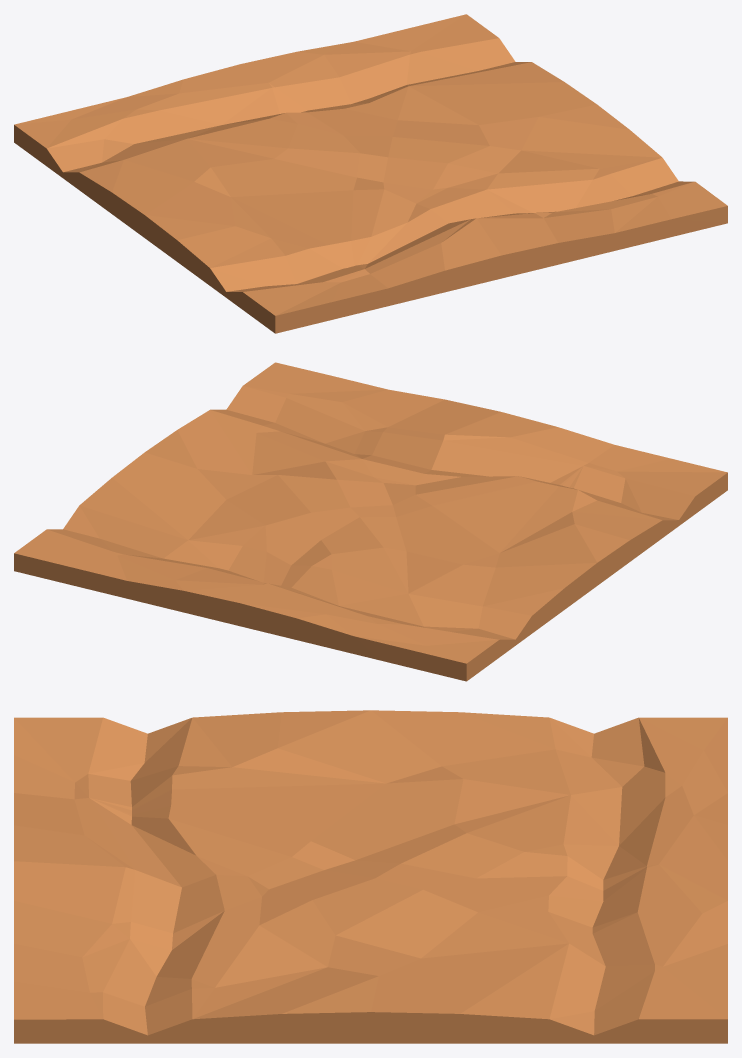
The model's file is Road_part_5.FBX.
3 renders of one model, top to bottom at view 1: azimuth 30°, elevation 25°; view 2: azimuth 150°, elevation 25°; view 3: azimuth 270°, elevation 25°, orthographic. The views are drawn at different scales.
Parts seen in each view (by area): view 1: Road_part_5; view 2: Road_part_5; view 3: Road_part_5.
Boxes of the visible parts, x1,y1,x2,y2 form: Road_part_5: [14, 14, 727, 333]; Road_part_5: [14, 362, 727, 681]; Road_part_5: [14, 710, 727, 1043].
Size of the model in its own units: 1.5 by 0.0861 by 1.5.
1 material, 1 textured.
